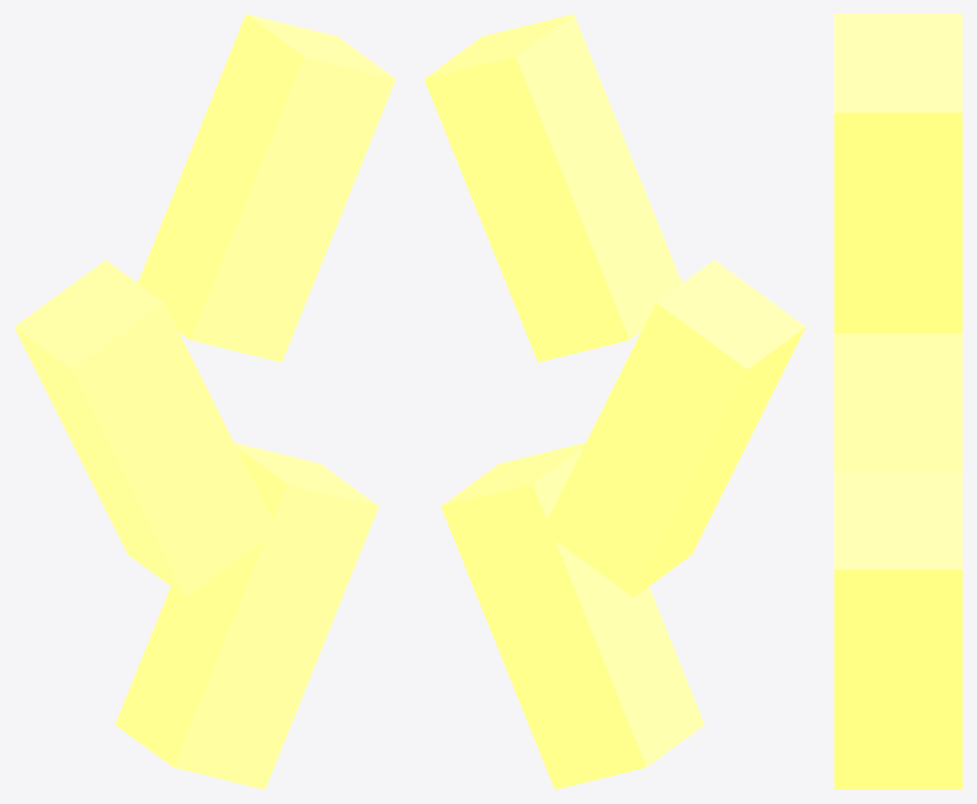
The model's file is ThunderBolt.fbx.
3 renders of one model, left to right at view 1: azimuth 30°, elevation 25°; view 2: azimuth 150°, elevation 25°; view 3: azimuth 270°, elevation 25°, orthographic. The views are drawn at different scales.
Parts seen in each view (by area): view 1: Thunder Bolt_body_0, Thunder Bolt_body_2, Thunder Bolt_body_1; view 2: Thunder Bolt_body_0, Thunder Bolt_body_2, Thunder Bolt_body_1; view 3: Thunder Bolt_body_0, Thunder Bolt_body_2, Thunder Bolt_body_1.
Boxes of the visible parts, box(x1,y1,x2,y2) form: Thunder Bolt_body_0: box(138, 14, 395, 362); Thunder Bolt_body_2: box(115, 442, 378, 789); Thunder Bolt_body_1: box(14, 260, 272, 597); Thunder Bolt_body_0: box(424, 14, 681, 362); Thunder Bolt_body_2: box(441, 442, 704, 789); Thunder Bolt_body_1: box(547, 260, 805, 597); Thunder Bolt_body_0: box(834, 14, 962, 332); Thunder Bolt_body_2: box(834, 471, 962, 789); Thunder Bolt_body_1: box(834, 333, 962, 470).
Size of the model in its own units: 96 by 205 by 30.
